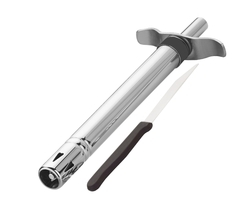Nonrec_Other: (28, 10, 227, 188)
